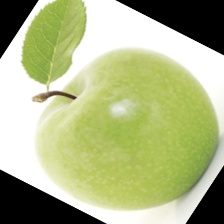apple: (22, 40, 208, 187)
